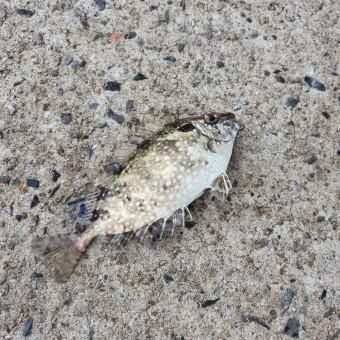fish: (32, 112, 240, 279)
